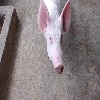heo: (36, 1, 74, 76)
